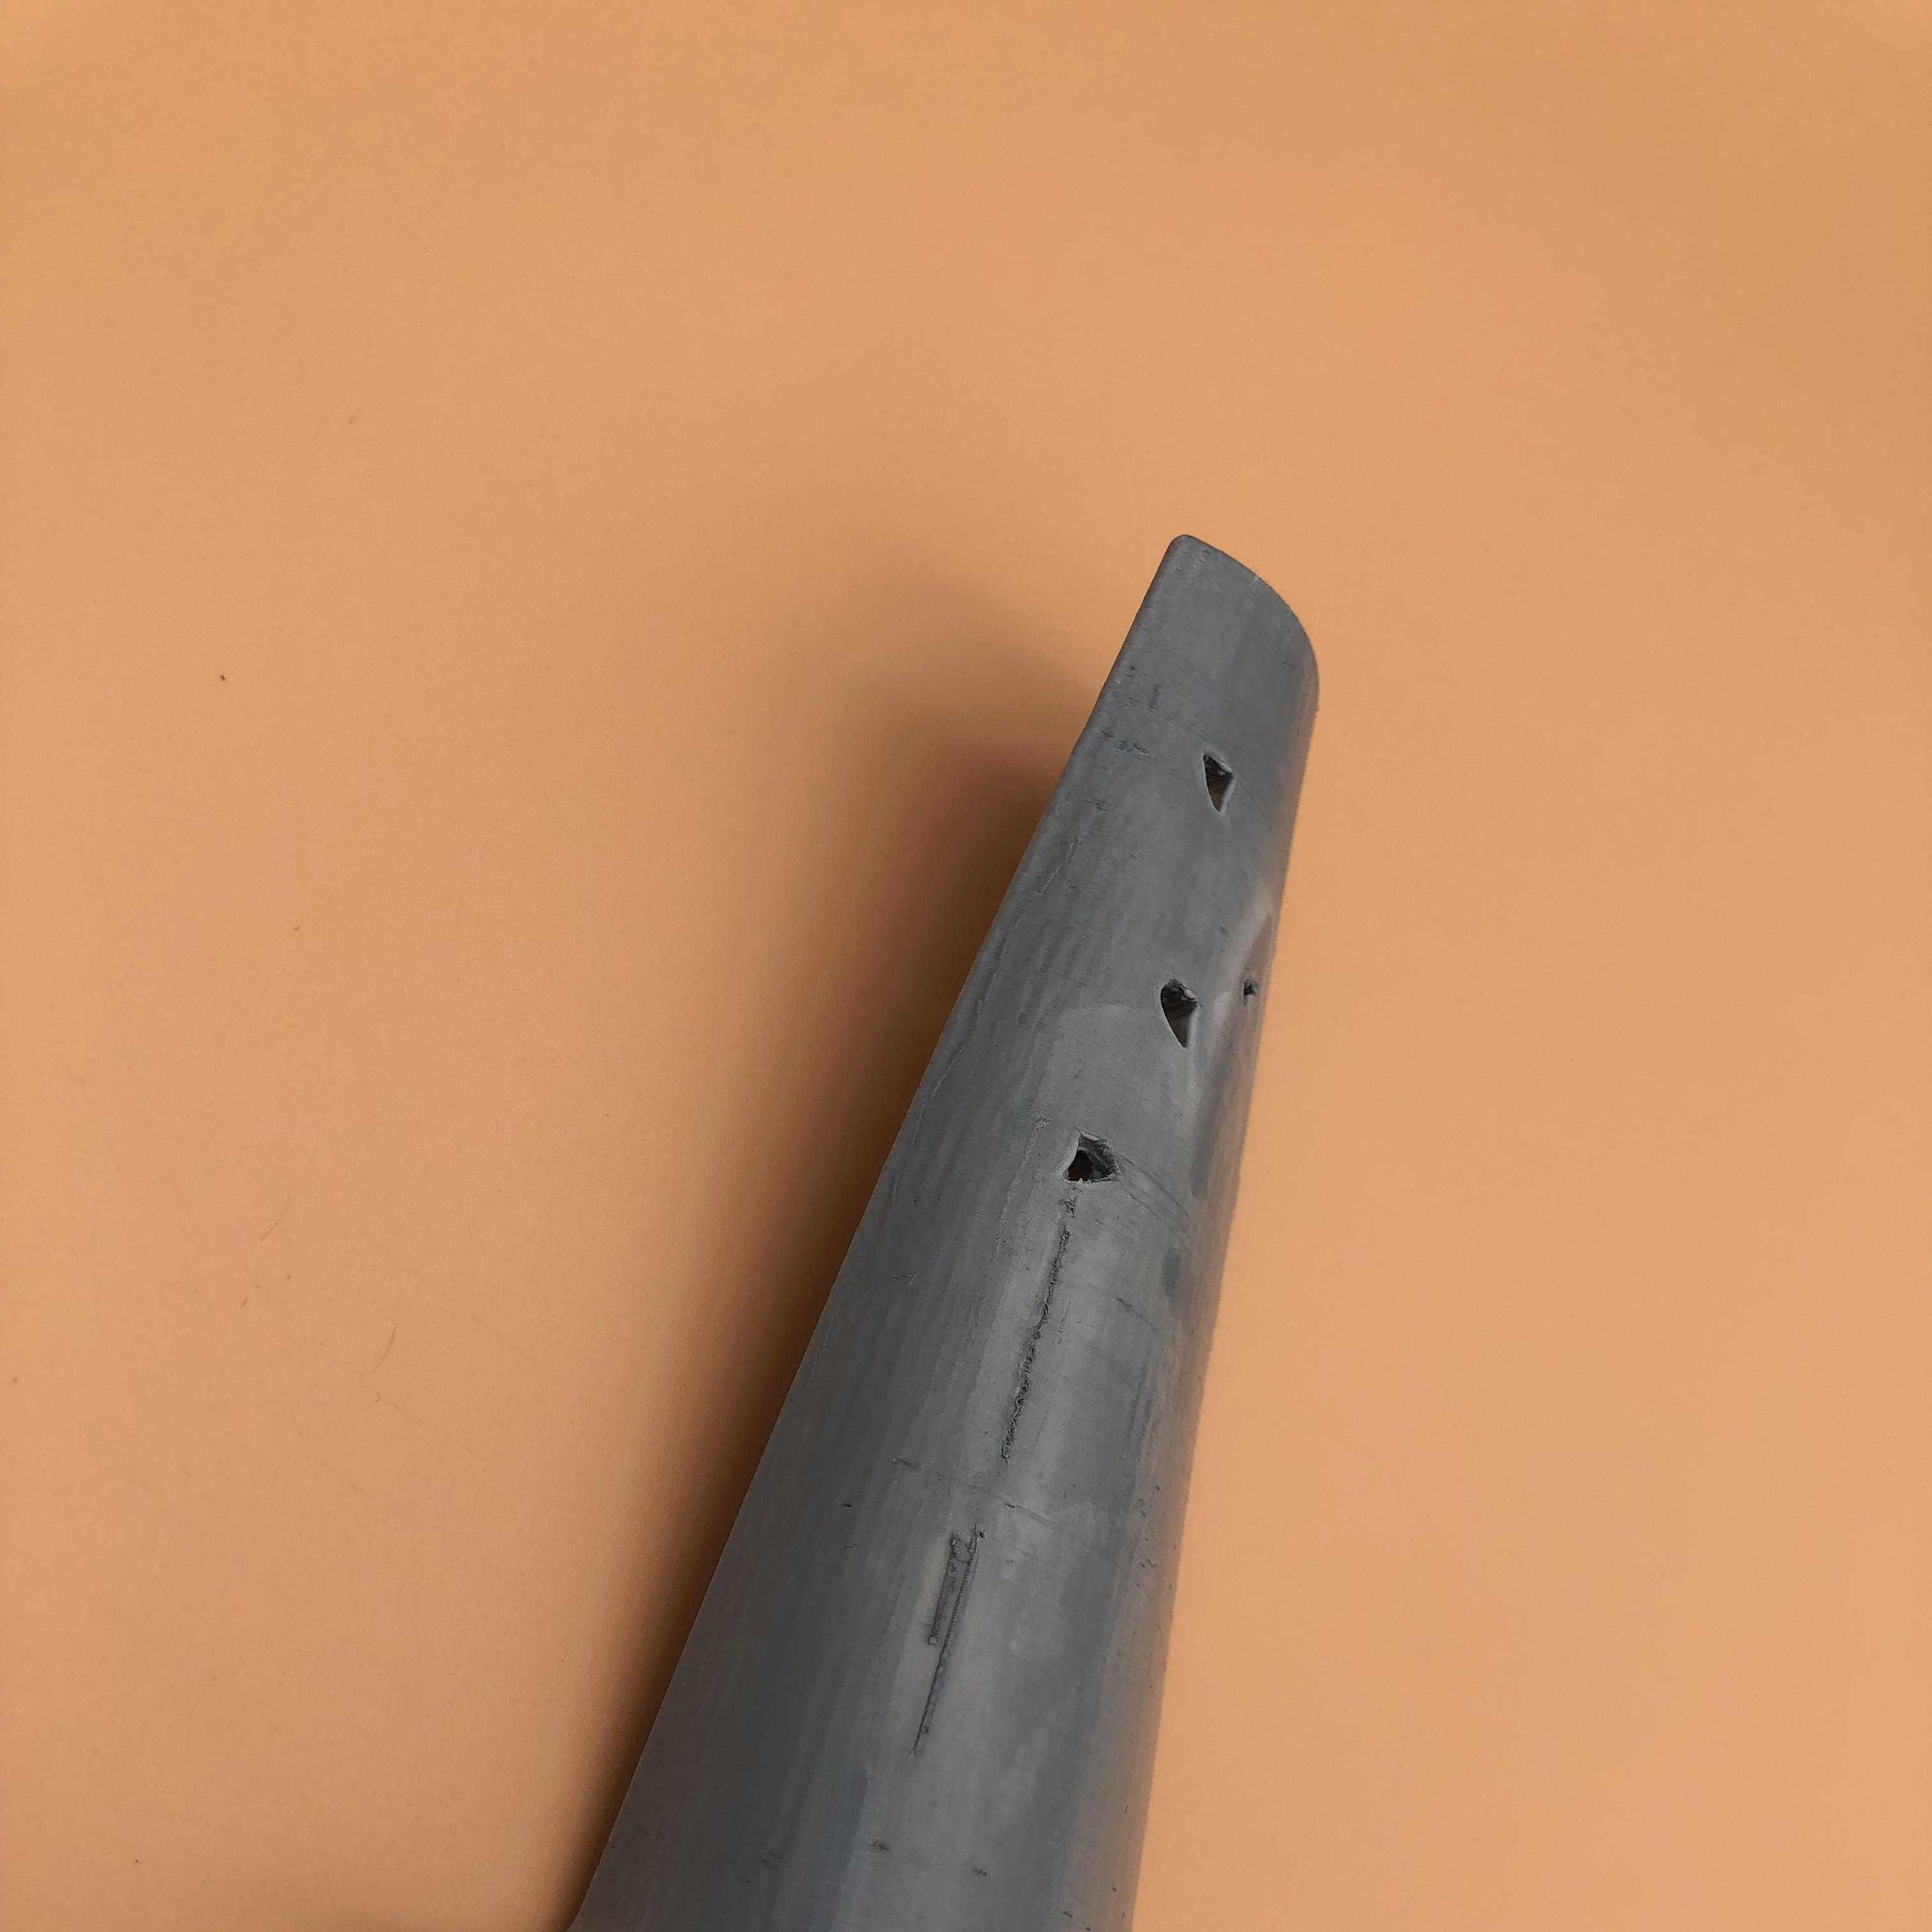breakdown: (1157, 738, 1274, 1049), (1060, 1129, 1136, 1191)
